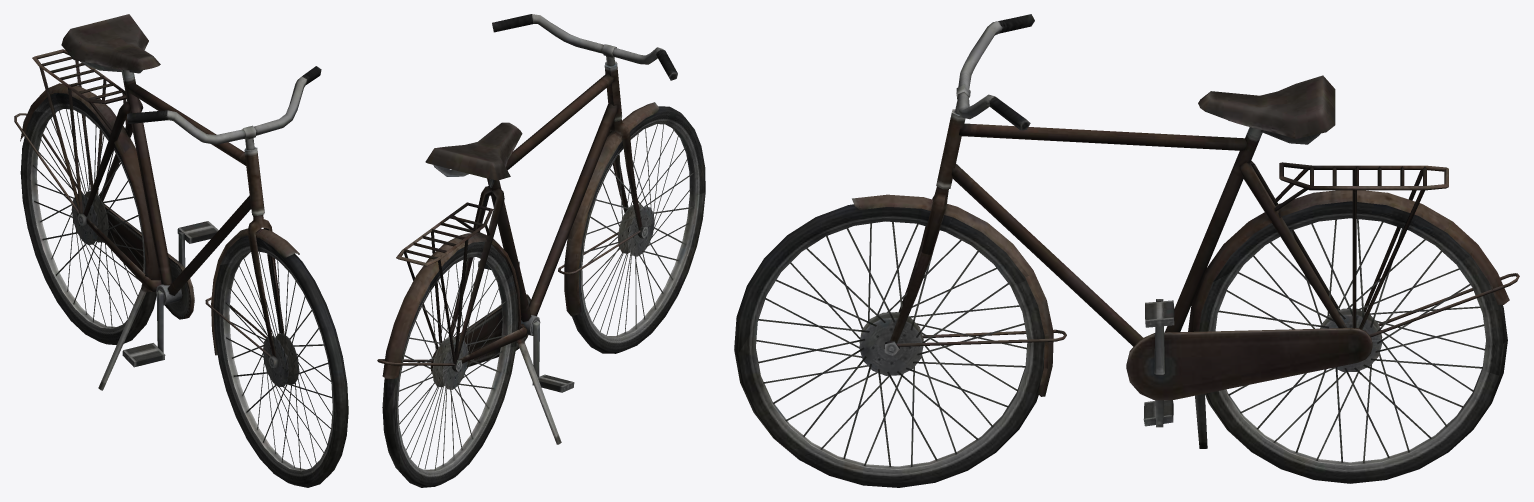
Rendered from cycle.glb.
3 renders of one model, left to right at view 1: azimuth 30°, elevation 25°; view 2: azimuth 150°, elevation 25°; view 3: azimuth 270°, elevation 25°, orthographic. The views are drawn at different scales.
Visible parts, largest first — view 1: cycle, wheel_f, wheel_r, wheel_bars; view 2: cycle, wheel_f, wheel_r, wheel_bars; view 3: cycle, wheel_f, wheel_r, wheel_bars.
Boxes of the visible parts, x1,y1,x2,y2 form: cycle: [14, 14, 348, 487]; wheel_f: [212, 251, 332, 485]; wheel_r: [22, 108, 152, 344]; wheel_bars: [127, 66, 321, 144]; cycle: [377, 56, 705, 471]; wheel_f: [572, 124, 695, 353]; wheel_r: [395, 256, 516, 487]; wheel_bars: [492, 14, 677, 80]; cycle: [734, 75, 1519, 483]; wheel_f: [755, 222, 1047, 487]; wheel_r: [1208, 219, 1498, 483]; wheel_bars: [956, 14, 1034, 130].
Size of the model in its own units: 0.6304 by 1.11 by 1.85.
1 material, 1 textured.
